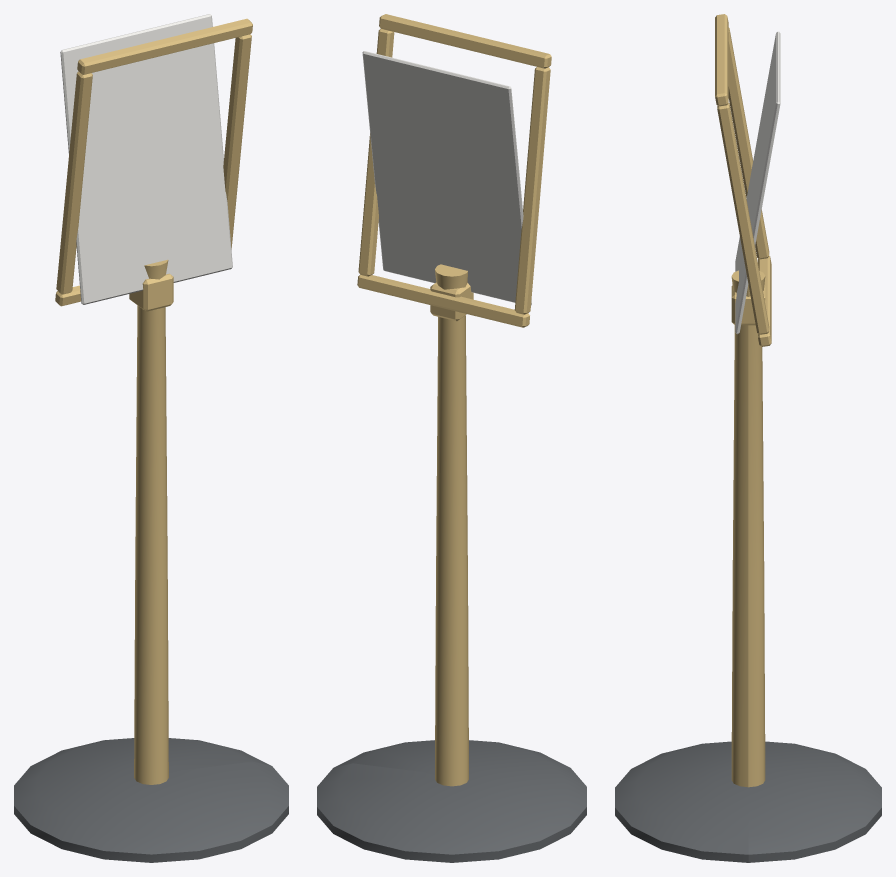
File: restaurant-kitchen-and-dining-floor-menu-stand-cc8a363a__16528.glb
3 views of the same model, side by side, from view 1: azimuth 30°, elevation 25°; view 2: azimuth 150°, elevation 25°; view 3: azimuth 270°, elevation 25° (orthographic). The views are drawn at different scales.
Visible parts, largest first — view 1: floor-menu-stand; view 2: floor-menu-stand; view 3: floor-menu-stand.
Boxes of the visible parts, bbox=[...] form: floor-menu-stand: bbox=[14, 14, 288, 862]; floor-menu-stand: bbox=[317, 14, 586, 862]; floor-menu-stand: bbox=[615, 14, 881, 862].
Size of the model in its own units: 0.48 by 1.47 by 0.4727.
